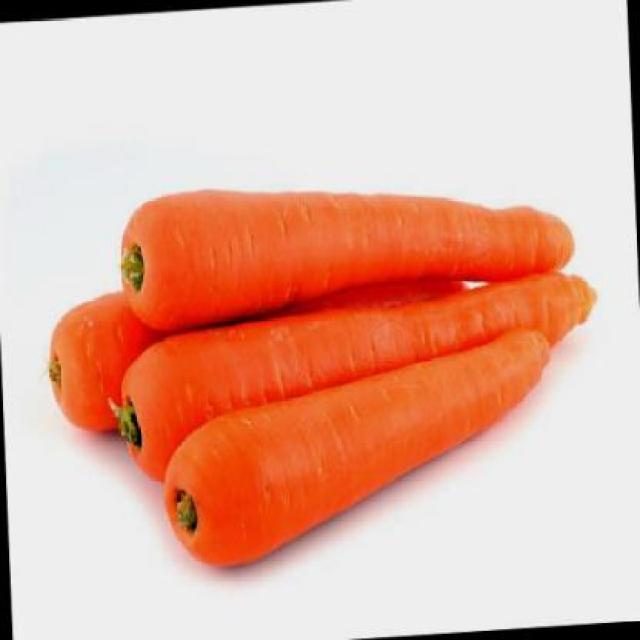carrot: (103, 270, 605, 484), (158, 326, 559, 568), (117, 167, 577, 336), (48, 285, 168, 433)
